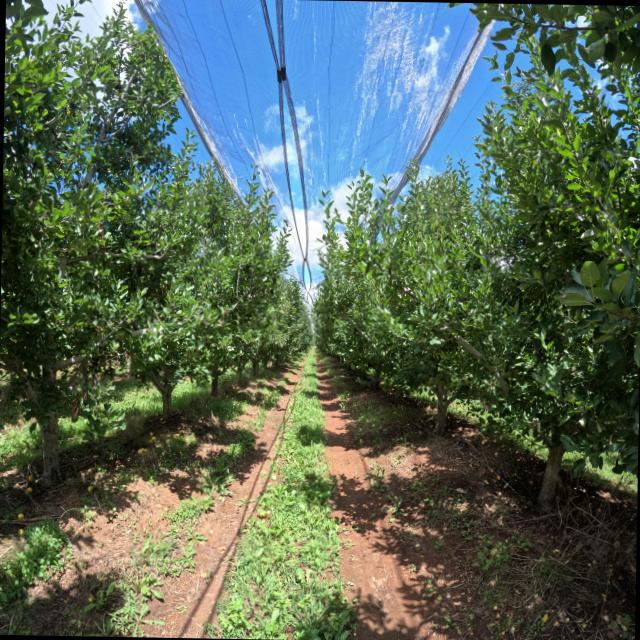-FireBlight-: (91, 372, 103, 387), (161, 282, 171, 299), (70, 405, 78, 419), (124, 354, 131, 363), (115, 359, 119, 369), (105, 360, 109, 369), (84, 393, 87, 400)
